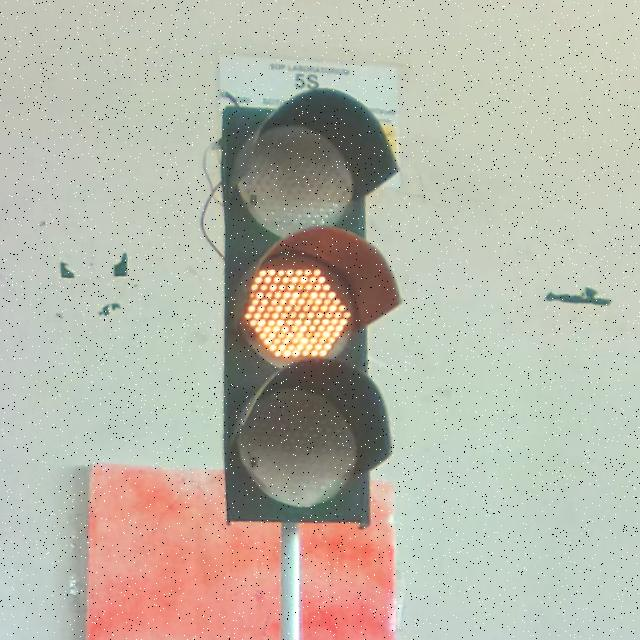Lampu Kuning: (224, 92, 402, 529)
